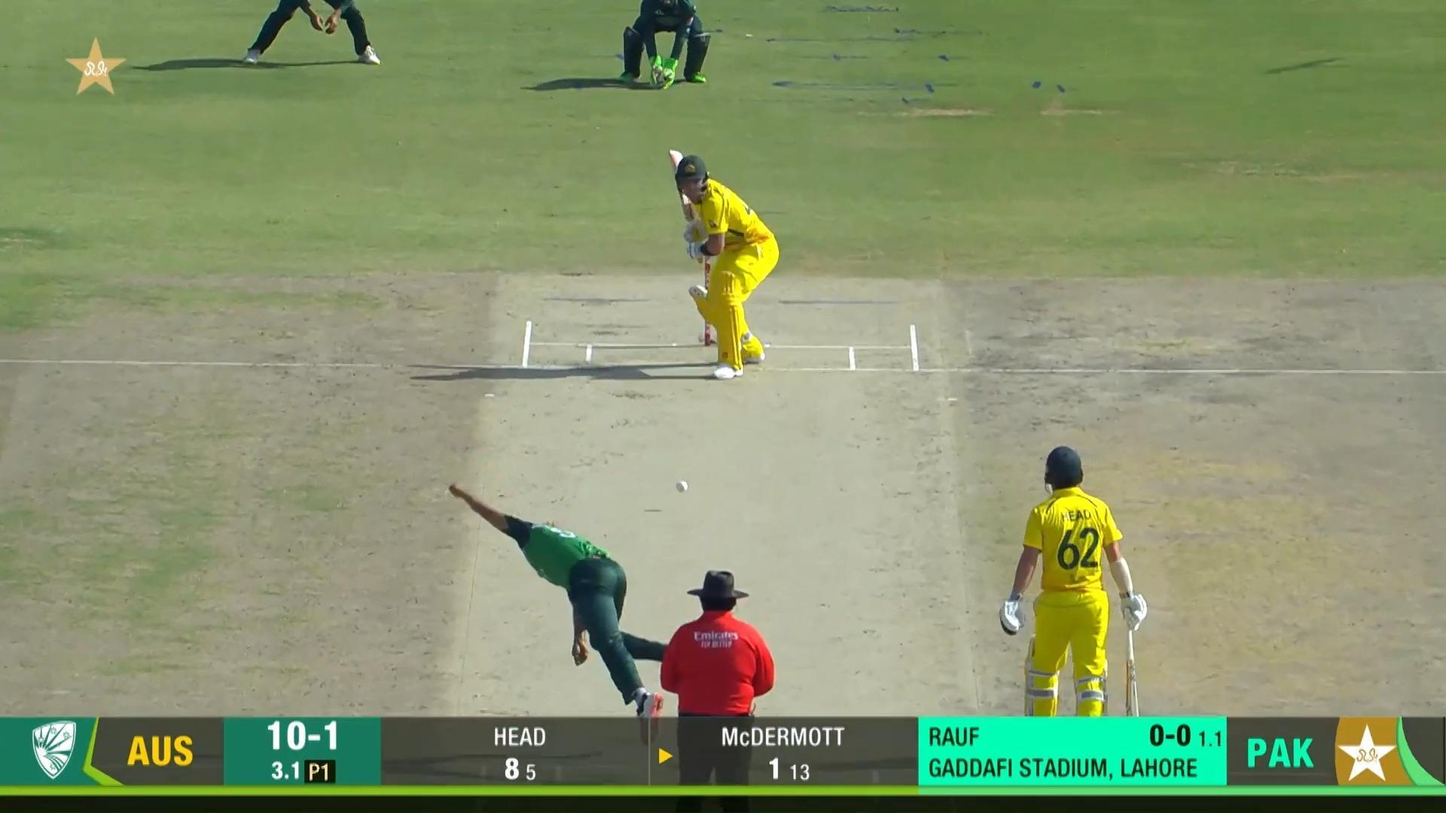BM 1: (669, 150, 780, 380)
BO: (448, 481, 670, 743)
